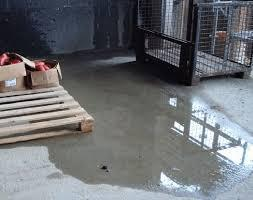water accumulation: (40, 36, 252, 192)
